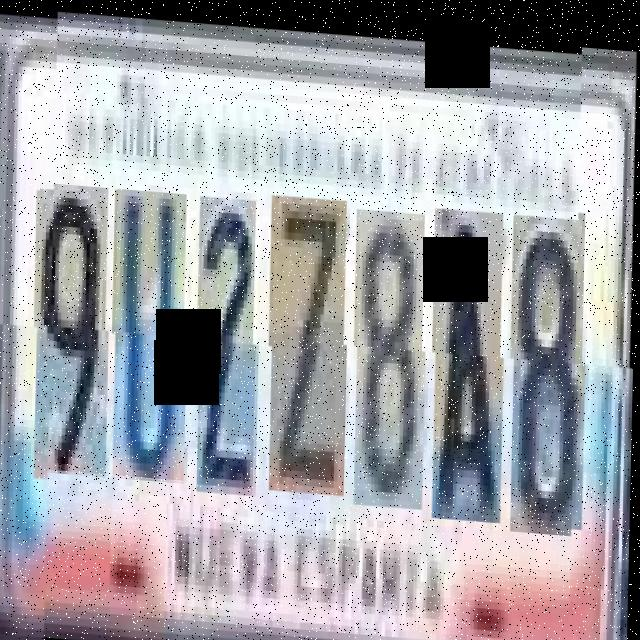2: (199, 193, 262, 491)
8: (512, 205, 589, 528), (356, 203, 429, 502)
9: (36, 182, 113, 475)
A: (434, 200, 507, 515)
U: (114, 187, 191, 480)
Z: (271, 190, 351, 491)
